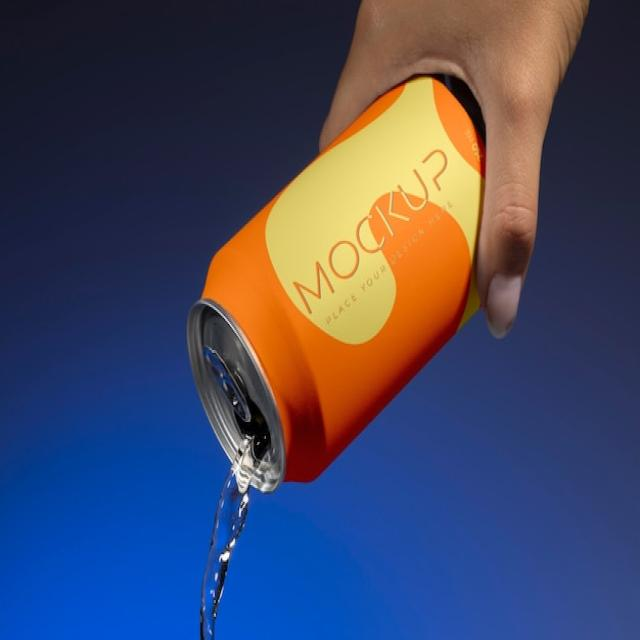soda_can: (158, 71, 528, 521)
